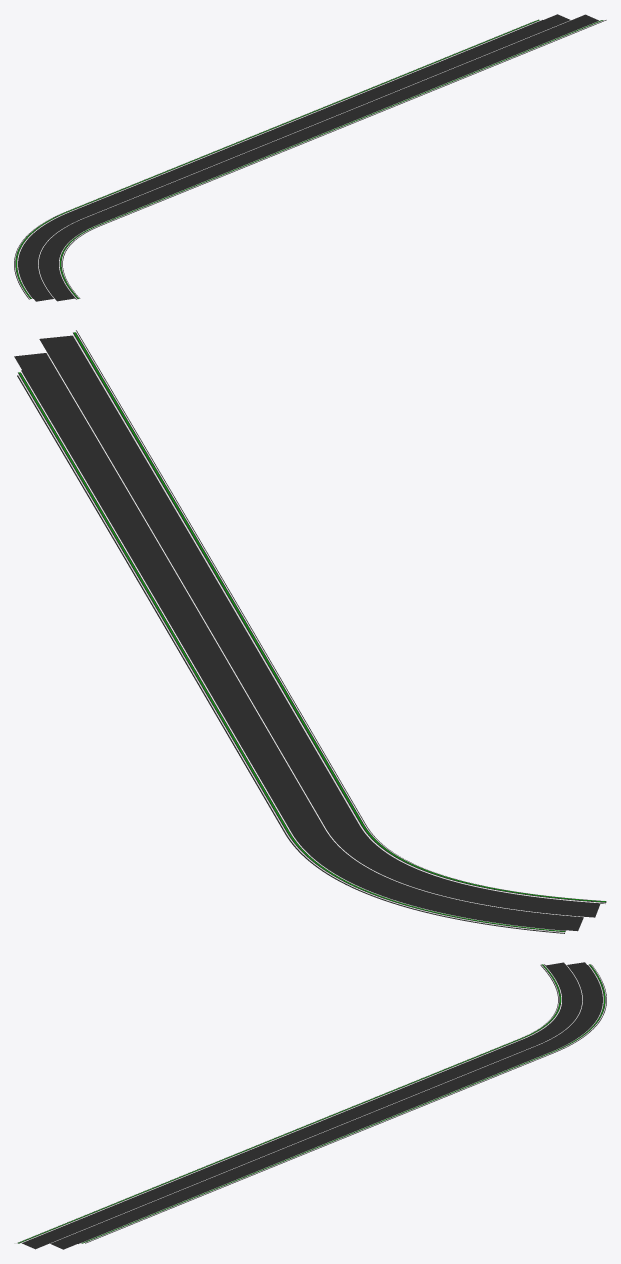
File: Spa.Short.04.glb
The picture shows the model from 3 angles, top to bottom: view 1: azimuth 90°, elevation 25°; view 2: azimuth 150°, elevation 25°; view 3: azimuth 270°, elevation 25°; orthographic projection. The views are drawn at different scales.
Parts seen in each view (by area): view 1: Track.004; view 2: Track.004; view 3: Track.004.
Boxes of the visible parts, x1,y1,x2,y2 form: Track.004: [14, 14, 606, 301]; Track.004: [14, 330, 606, 933]; Track.004: [17, 962, 606, 1249].
Bounding box in the file's own units: 208 × 0.1549 × 182.
